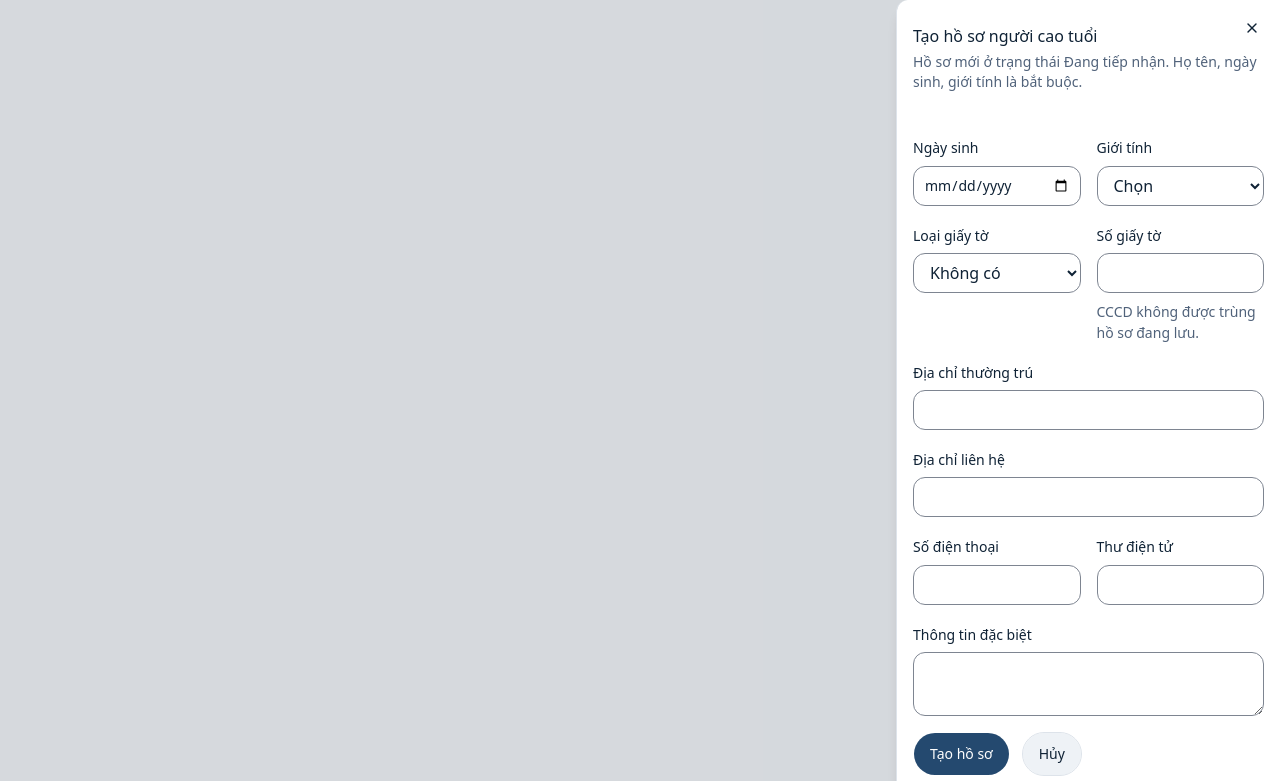
Test: CreateResident › chặn gửi khi thiếu họ tên, ngày sinh, giới tính
(page scrolled)
Click the button "Tạo hồ sơ".
click(961, 754)  # box [913,732,1010,776]
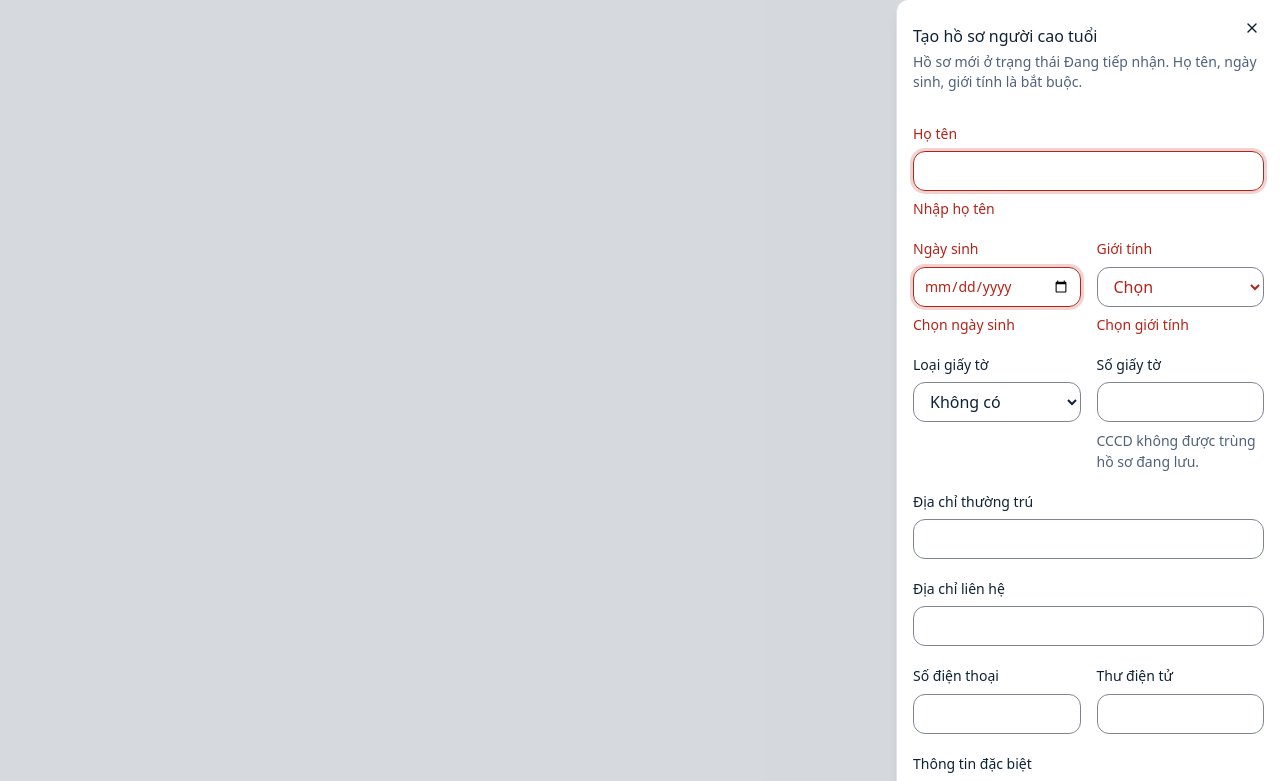
Check: the text "Nhập họ tên" is shown, box [913,199,995,218]
Check: the text "Chọn ngày sinh" is shown, box [913,314,1015,334]
Check: the text "Chọn giới tính" is shown, box [1096,314,1189,334]
